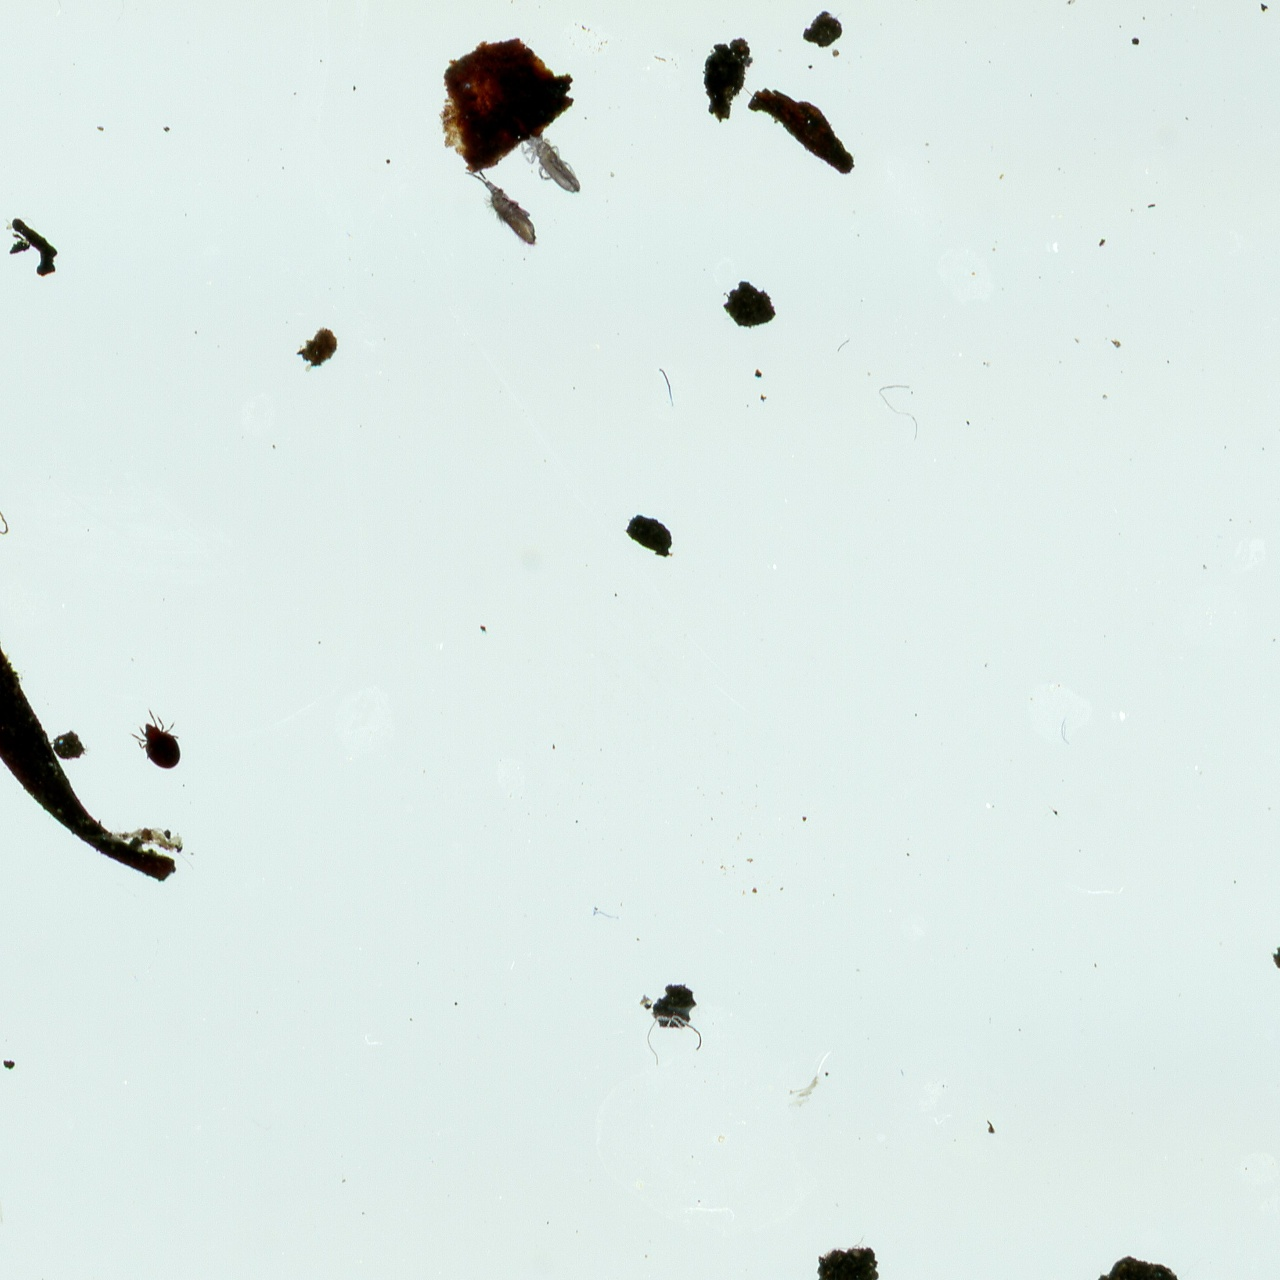arthropod: (452, 143, 560, 271), (502, 109, 598, 217), (128, 704, 195, 777), (0, 1107, 19, 1257)
